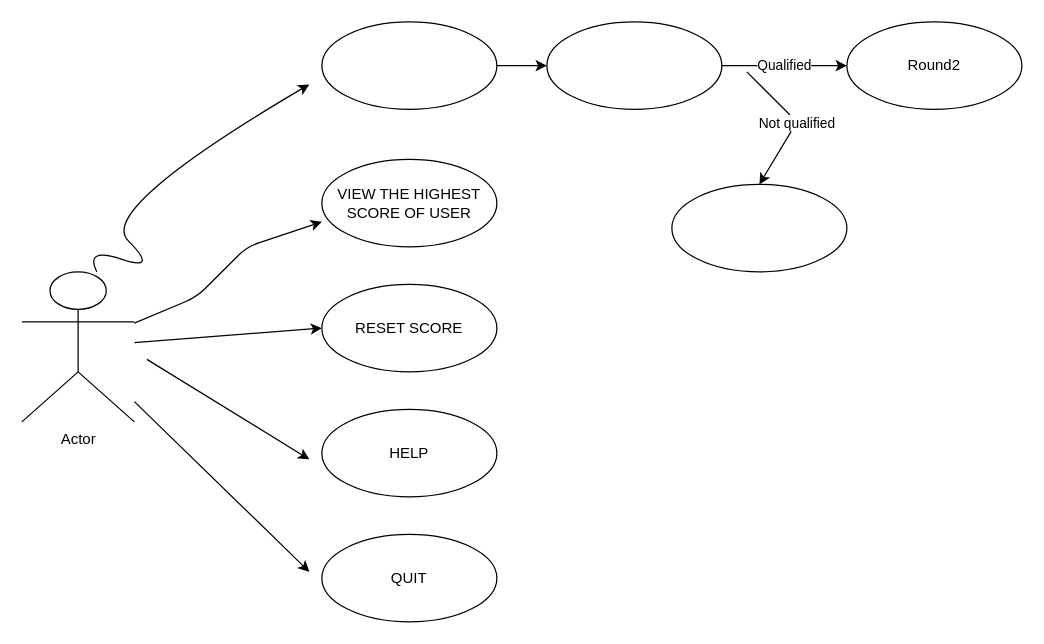
The diagram is 1044 pixels wide and 644 high, and some of its shapes have lost their labels. Each missing label, with the box of its shape:
Home: (671, 183, 847, 272)
Round1: (546, 21, 722, 109)
START THE GAME: (321, 21, 497, 109)
